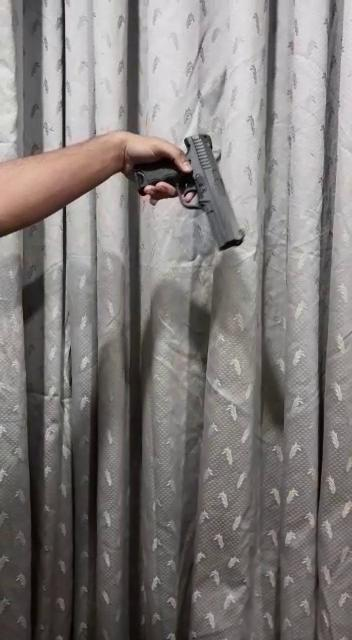weapon: (126, 129, 247, 255)
